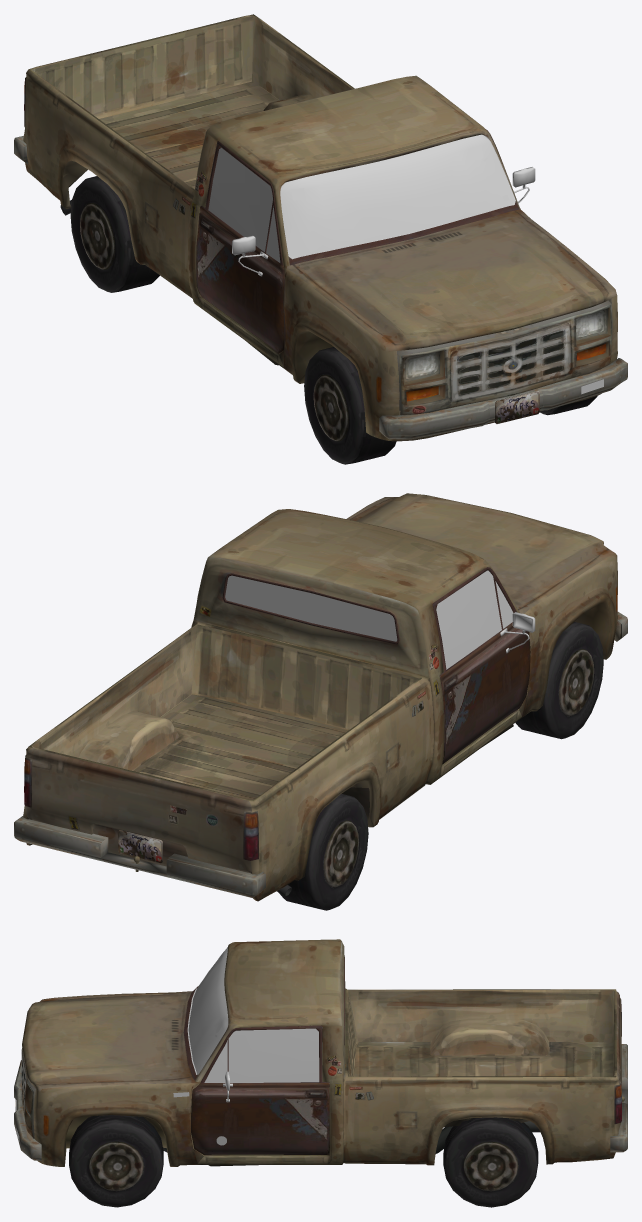
Rendered from Troca.obj.
The picture shows the model from 3 angles, top to bottom: view 1: azimuth 30°, elevation 25°; view 2: azimuth 150°, elevation 25°; view 3: azimuth 270°, elevation 25°; orthographic projection. The views are drawn at different scales.
Visible parts, largest first — view 1: ST_Eng_ChloePickup; view 2: ST_Eng_ChloePickup; view 3: ST_Eng_ChloePickup.
Boxes of the visible parts, box(x1,y1,x2,y2) form: ST_Eng_ChloePickup: box(14, 14, 627, 464); ST_Eng_ChloePickup: box(14, 493, 627, 910); ST_Eng_ChloePickup: box(14, 939, 627, 1207).
Size of the model in its own units: 3.55 by 2.61 by 7.83.
